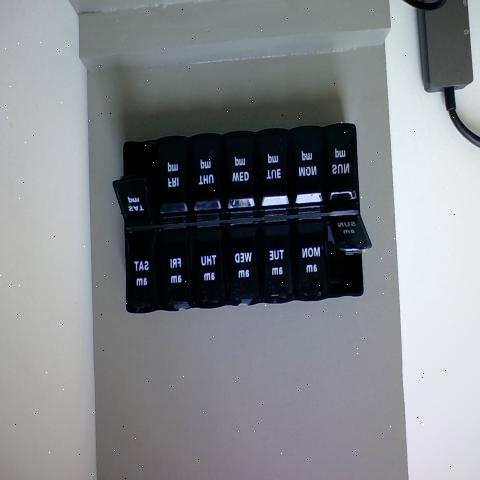FRI-am: (163, 226, 197, 306)
FRI-pm: (162, 138, 191, 211)
MON-am: (301, 221, 334, 299)
MON-pm: (292, 128, 324, 205)
Open: (112, 142, 158, 211), (332, 226, 370, 295)
PillBox: (105, 98, 373, 352)
SAT-am: (130, 228, 161, 308)
SUN-pm: (328, 126, 354, 202)
THU-am: (198, 225, 232, 306)
THU-pm: (190, 133, 224, 216)
TUE-am: (266, 220, 298, 300)
TUE-pm: (258, 132, 286, 208)
WED-am: (233, 223, 264, 303)
WED-pm: (226, 131, 256, 211)
